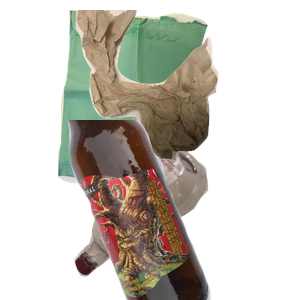glass: (65, 120, 300, 300)
paper: (55, 10, 255, 190)
plastic: (72, 142, 273, 300)
trash: (73, 10, 300, 163)
